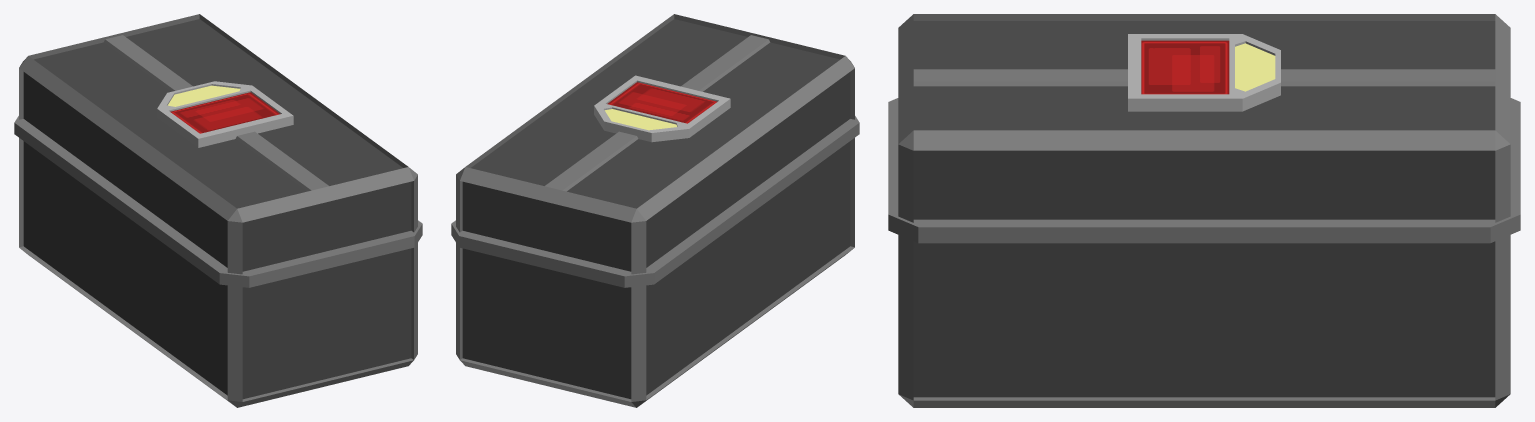
The model's file is Locked_Crate_1x2.fbx.
3 views of the same model, side by side, from view 1: azimuth 30°, elevation 25°; view 2: azimuth 150°, elevation 25°; view 3: azimuth 270°, elevation 25° (orthographic). The views are drawn at different scales.
Visible parts, largest first — view 1: Locked_Crate_1x2; view 2: Locked_Crate_1x2; view 3: Locked_Crate_1x2.
Part boxes in pixels (<box>): Locked_Crate_1x2: <box>14,14,422,407</box>; Locked_Crate_1x2: <box>451,14,859,407</box>; Locked_Crate_1x2: <box>888,14,1520,407</box>.
Bounding box in the file's own units: 101 × 97 × 196.
